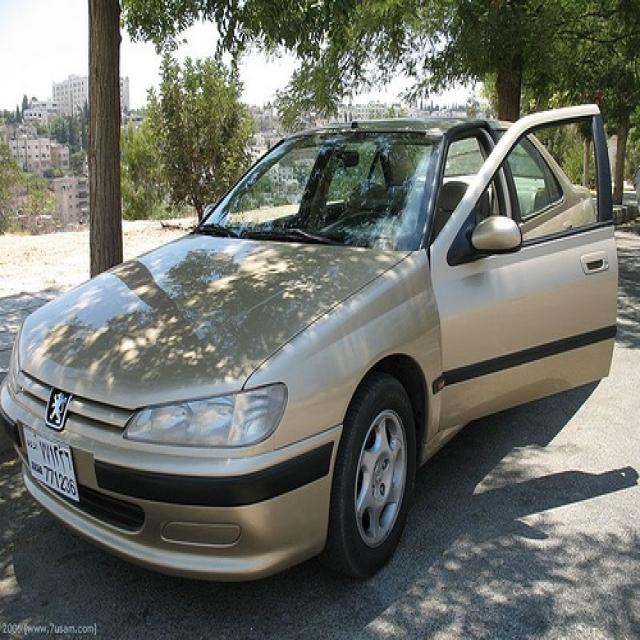car: (0, 102, 618, 582)
